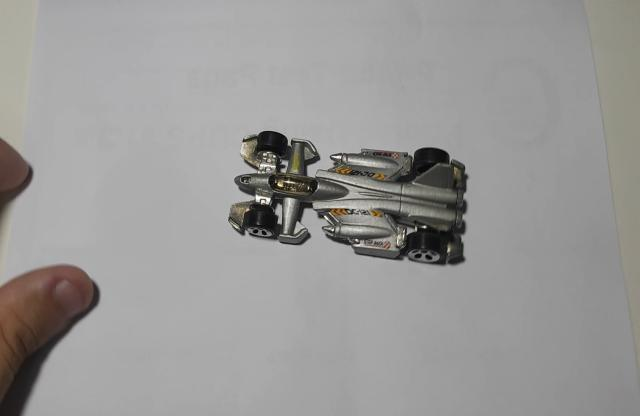05_DC121: (228, 131, 469, 267)
